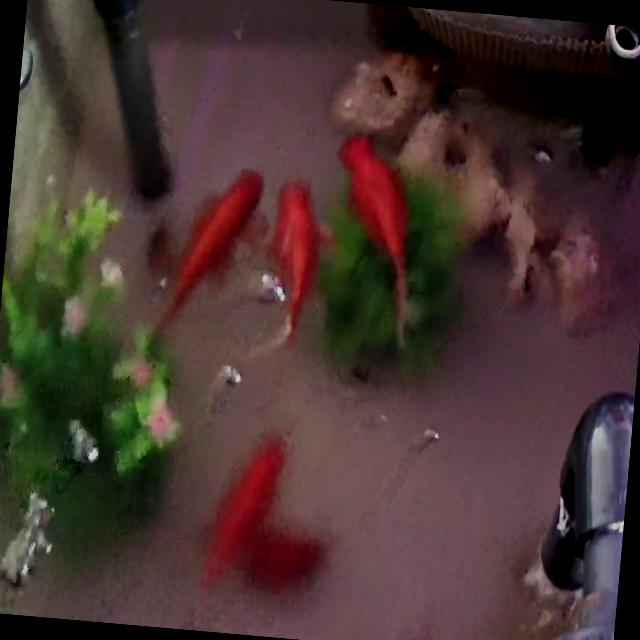fish: (323, 128, 422, 350), (146, 162, 264, 348), (200, 427, 292, 600), (261, 175, 329, 352), (240, 528, 326, 594)
